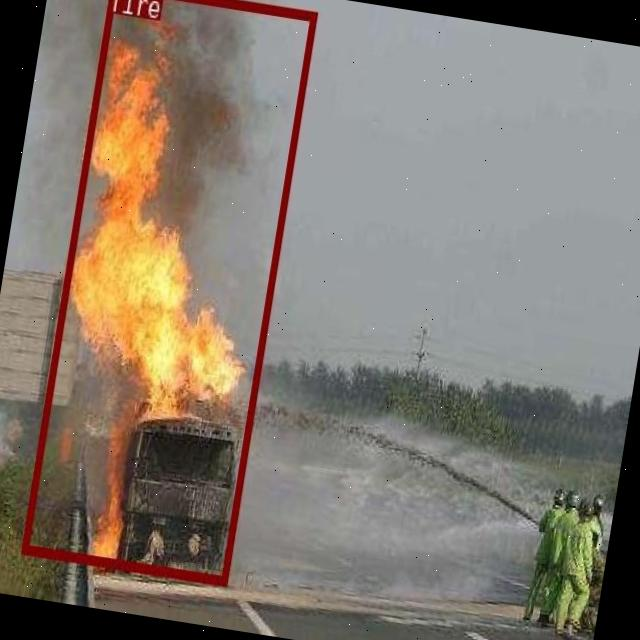fire: (21, 0, 316, 583)
